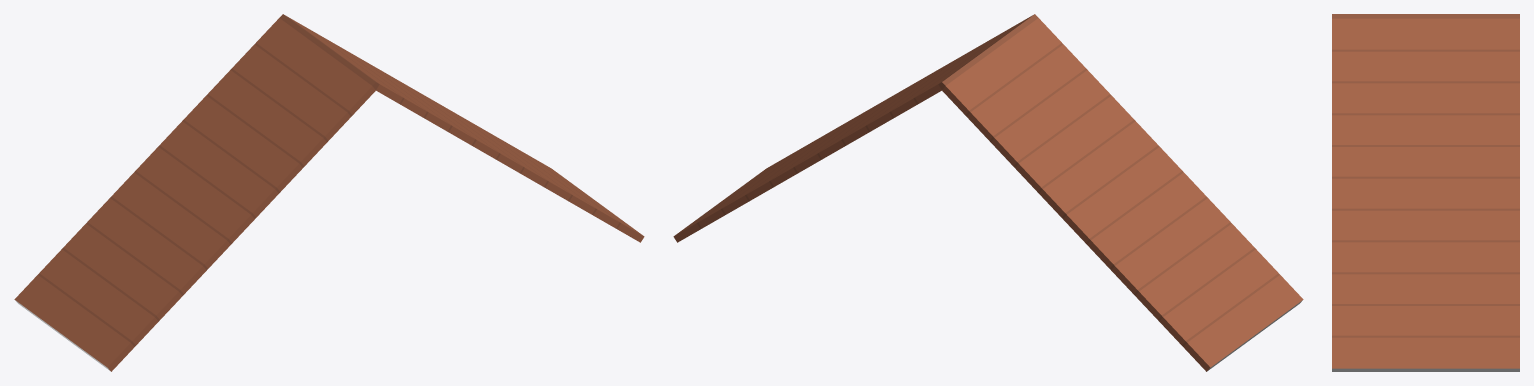
Rendered from Roof2_C5_01.fbx.
The picture shows the model from 3 angles, left to right: view 1: azimuth 30°, elevation 25°; view 2: azimuth 150°, elevation 25°; view 3: azimuth 270°, elevation 25°; orthographic projection.
Parts seen in each view (by area): view 1: Roof2_C5_01; view 2: Roof2_C5_01; view 3: Roof2_C5_01.
Part boxes in pixels (x1=…): Roof2_C5_01: x1=14, y1=14, x2=644, y2=371; Roof2_C5_01: x1=673, y1=14, x2=1303, y2=371; Roof2_C5_01: x1=1332, y1=14, x2=1519, y2=371.
Bounding box in the file's own units: 833 × 334 × 250.
